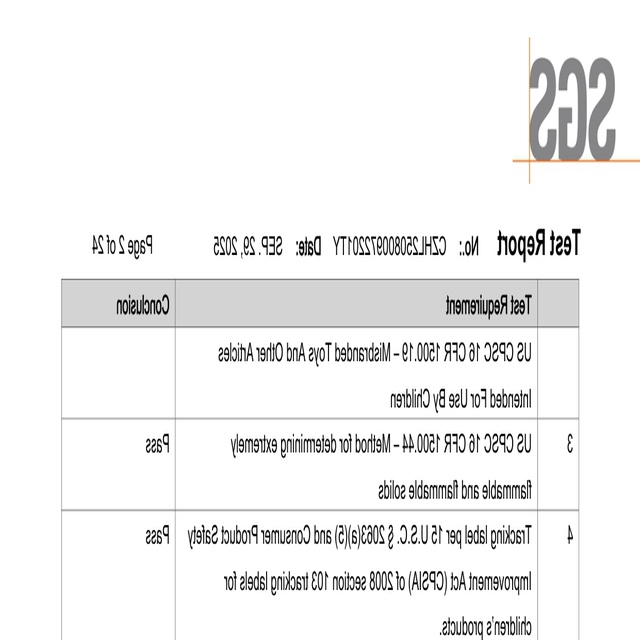sgs: (530, 58, 616, 160)
